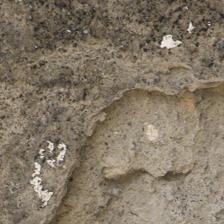Crack: (22, 38, 202, 183)
